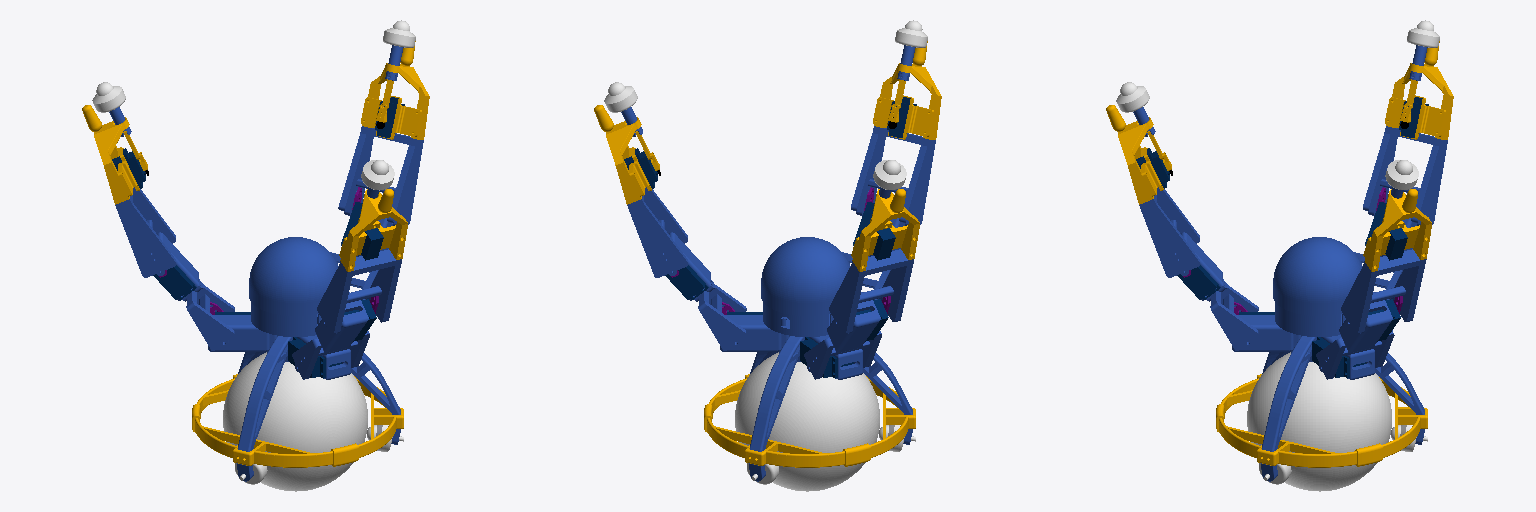
--- Render facts (derived) ---
3 views of the same robot in one strip: view 1: azimuth 30°, elevation 25°; view 2: azimuth 150°, elevation 25°; view 3: azimuth 270°, elevation 25° (orthographic).
Robot: skootr — 72 links, 71 joints (9 revolute, 6 continuous, 56 fixed); root link ball_root; default pose: all joints at 0.
Links seen in each view (by area): view 1: hemisphere_top, lid, leg2_link2_p1, leg3_link2_p1, leg1_link2_p1, third_ring, first_triconstraint, hemisphere_bottom, leg2_link2_p2, leg3_link1, third_servo_mount, electronics_platform (+13 smaller); view 2: hemisphere_top, lid, leg3_link2_p1, leg1_link2_p1, leg2_link2_p1, second_ring, third_triconstraint, hemisphere_bottom, leg3_link2_p2, leg1_link1, first_servo_mount, electronics_platform (+13 smaller); view 3: hemisphere_top, lid, leg1_link2_p1, leg2_link2_p1, leg3_link2_p1, first_ring, second_triconstraint, hemisphere_bottom, leg1_link2_p2, leg2_link1, second_servo_mount, electronics_platform (+13 smaller).
Boxes of the visible links, x1=… form: hemisphere_top: x1=223, y1=352, x2=367, y2=449; lid: x1=249, y1=237, x2=338, y2=315; leg2_link2_p1: x1=317, y1=249, x2=401, y2=333; leg3_link2_p1: x1=115, y1=187, x2=175, y2=277; leg1_link2_p1: x1=338, y1=126, x2=423, y2=225; third_ring: x1=195, y1=418, x2=332, y2=467; first_triconstraint: x1=237, y1=336, x2=292, y2=481; hemisphere_bottom: x1=223, y1=423, x2=367, y2=491; leg2_link2_p2: x1=340, y1=189, x2=407, y2=271; leg3_link1: x1=186, y1=284, x2=234, y2=350; third_servo_mount: x1=208, y1=315, x2=276, y2=351; electronics_platform: x1=251, y1=303, x2=321, y2=336; hemisphere_top: x1=735, y1=352, x2=879, y2=449; lid: x1=761, y1=237, x2=850, y2=315; leg3_link2_p1: x1=829, y1=249, x2=913, y2=333; leg1_link2_p1: x1=627, y1=187, x2=687, y2=277; leg2_link2_p1: x1=851, y1=126, x2=935, y2=225; second_ring: x1=707, y1=418, x2=844, y2=467; third_triconstraint: x1=749, y1=336, x2=804, y2=481; hemisphere_bottom: x1=735, y1=423, x2=879, y2=491; leg3_link2_p2: x1=852, y1=189, x2=919, y2=271; leg1_link1: x1=698, y1=285, x2=746, y2=350; first_servo_mount: x1=720, y1=315, x2=788, y2=351; electronics_platform: x1=763, y1=303, x2=833, y2=336; hemisphere_top: x1=1247, y1=352, x2=1391, y2=449; lid: x1=1273, y1=237, x2=1362, y2=315; leg1_link2_p1: x1=1341, y1=249, x2=1426, y2=333; leg2_link2_p1: x1=1139, y1=187, x2=1199, y2=277; leg3_link2_p1: x1=1363, y1=126, x2=1447, y2=225; first_ring: x1=1219, y1=418, x2=1356, y2=467; second_triconstraint: x1=1261, y1=336, x2=1316, y2=481; hemisphere_bottom: x1=1247, y1=422, x2=1391, y2=491; leg1_link2_p2: x1=1365, y1=189, x2=1431, y2=271; leg2_link1: x1=1210, y1=284, x2=1258, y2=350; second_servo_mount: x1=1232, y1=315, x2=1300, y2=351; electronics_platform: x1=1275, y1=303, x2=1345, y2=336.
Size in the robot's own frame: 0.511 by 0.4789 by 0.6024 metres.
71 mesh visuals loaded from 24 distinct referenced files (24 binary STL).

URDF robot description (skootr):
<?xml version="1.0" ?>
<!-- =================================================================================== -->
<!-- |    This document was autogenerated by xacro from ./src/skootr_description/urdf/skootr.xacro | -->
<!-- |    EDITING THIS FILE BY HAND IS NOT RECOMMENDED                                 | -->
<!-- =================================================================================== -->
<robot name="skootr">
  <!-- Declare colors -->
  <material name="skootr_blue">
    <color rgba="0.231 0.380 0.706 1.0"/>
  </material>
  <material name="skootr_yellow">
    <color rgba="0.980 0.714 0.004 1.0"/>
  </material>
  <material name="skootr_silver">
    <color rgba="0.9176 0.9176 0.9176 1.0"/>
  </material>
  <material name="servo_blue">
    <color rgba="0.043 0.216 0.404 1.0"/>
  </material>
  <material name="horn_purple">
    <color rgba="0.490 0.086 0.557 1.0"/>
  </material>
  <link name="ball_root">
    <origin rpy="0.0 0.0 0.0" xyz="0.0 0.0 0.0"/>
  </link>
  <link name="ball_connector">
    <visual>
      <geometry>
        <mesh filename="package:///meshes/frame/hemisphere_connector.stl" scale="0.001 0.001 0.001"/>
      </geometry>
    </visual>
    <collision>
      <geometry>
        <mesh filename="package:///meshes/frame/hemisphere_connector.stl" scale="0.001 0.001 0.001"/>
      </geometry>
    </collision>
  </link>
  <!-- joining ball_connector to dummy link -->
  <joint name="root_to_connector" type="fixed">
    <origin rpy="1.5707963267948966 0 0" xyz="0.0 0.0 0.0195"/>
    <parent link="ball_root"/>
    <child link="ball_connector"/>
  </joint>
  <!-- top hemisphere -->
  <link name="hemisphere_top">
    <visual>
      <geometry>
        <mesh filename="package:///meshes/frame/hemisphere.stl" scale="0.001 0.001 0.001"/>
      </geometry>
      <material name="skootr_silver"/>
    </visual>
    <collision>
      <geometry>
        <mesh filename="package:///meshes/frame/hemisphere.stl" scale="0.001 0.001 0.001"/>
      </geometry>
    </collision>
  </link>
  <link name="hemisphere_bottom">
    <visual>
      <geometry>
        <mesh filename="package:///meshes/frame/hemisphere.stl" scale="0.001 0.001 0.001"/>
      </geometry>
      <material name="skootr_silver"/>
    </visual>
    <collision>
      <geometry>
        <mesh filename="package:///meshes/frame/hemisphere.stl" scale="0.001 0.001 0.001"/>
      </geometry>
    </collision>
  </link>
  <joint name="connector_to_top" type="fixed">
    <parent link="ball_connector"/>
    <child link="hemisphere_top"/>
    <origin rpy="0 0 0" xyz="0 -0.0195 0"/>
  </joint>
  <joint name="connector_to_bottom" type="fixed">
    <parent link="ball_connector"/>
    <child link="hemisphere_bottom"/>
    <origin rpy="3.14159265 0 0" xyz="0 -0.0195 0"/>
  </joint>
  <!-- ring constraint -->
  <link name="first_ring" type="fixed">
    <visual>
      <geometry>
        <mesh filename="package:///meshes/frame/ringconstraint.stl" scale="0.001 0.001 0.001"/>
      </geometry>
      <material name="skootr_yellow"/>
    </visual>
    <collision>
      <geometry>
        <mesh filename="package:///meshes/frame/ringconstraint.stl" scale="0.001 0.001 0.001"/>
      </geometry>
    </collision>
  </link>
  <link name="first_constraint_connector" type="fixed">
    <visual>
      <geometry>
        <mesh filename="package:///meshes/frame/ringconstraint_connector.stl" scale="0.001 0.001 0.001"/>
      </geometry>
      <material name="skootr_yellow"/>
    </visual>
    <collision>
      <geometry>
        <mesh filename="package:///meshes/frame/ringconstraint_connector.stl" scale="0.001 0.001 0.001"/>
      </geometry>
    </collision>
  </link>
  <link name="first_triconstraint" type="fixed">
    <visual>
      <geometry>
        <mesh filename="package:///meshes/frame/triconstraint.stl" scale="0.001 0.001 0.001"/>
      </geometry>
      <material name="skootr_blue"/>
    </visual>
    <collision>
      <geometry>
        <mesh filename="package:///meshes/frame/triconstraint.stl" scale="0.001 0.001 0.001"/>
      </geometry>
    </collision>
  </link>
  <link name="second_ring" type="fixed">
    <visual>
      <geometry>
        <mesh filename="package:///meshes/frame/ringconstraint.stl" scale="0.001 0.001 0.001"/>
      </geometry>
      <material name="skootr_yellow"/>
    </visual>
    <collision>
      <geometry>
        <mesh filename="package:///meshes/frame/ringconstraint.stl" scale="0.001 0.001 0.001"/>
      </geometry>
    </collision>
  </link>
  <link name="second_constraint_connector" type="fixed">
    <visual>
      <geometry>
        <mesh filename="package:///meshes/frame/ringconstraint_connector.stl" scale="0.001 0.001 0.001"/>
      </geometry>
      <material name="skootr_yellow"/>
    </visual>
    <collision>
      <geometry>
        <mesh filename="package:///meshes/frame/ringconstraint_connector.stl" scale="0.001 0.001 0.001"/>
      </geometry>
    </collision>
  </link>
  <link name="second_triconstraint" type="fixed">
    <visual>
      <geometry>
        <mesh filename="package:///meshes/frame/triconstraint.stl" scale="0.001 0.001 0.001"/>
      </geometry>
      <material name="skootr_blue"/>
    </visual>
    <collision>
      <geometry>
        <mesh filename="package:///meshes/frame/triconstraint.stl" scale="0.001 0.001 0.001"/>
      </geometry>
    </collision>
  </link>
  <link name="third_ring" type="fixed">
    <visual>
      <geometry>
        <mesh filename="package:///meshes/frame/ringconstraint.stl" scale="0.001 0.001 0.001"/>
      </geometry>
      <material name="skootr_yellow"/>
    </visual>
    <collision>
      <geometry>
        <mesh filename="package:///meshes/frame/ringconstraint.stl" scale="0.001 0.001 0.001"/>
      </geometry>
    </collision>
  </link>
  <link name="third_constraint_connector" type="fixed">
    <visual>
      <geometry>
        <mesh filename="package:///meshes/frame/ringconstraint_connector.stl" scale="0.001 0.001 0.001"/>
      </geometry>
      <material name="skootr_yellow"/>
    </visual>
    <collision>
      <geometry>
        <mesh filename="package:///meshes/frame/ringconstraint_connector.stl" scale="0.001 0.001 0.001"/>
      </geometry>
    </collision>
  </link>
  <link name="third_triconstraint" type="fixed">
    <visual>
      <geometry>
        <mesh filename="package:///meshes/frame/triconstraint.stl" scale="0.001 0.001 0.001"/>
      </geometry>
      <material name="skootr_blue"/>
    </visual>
    <collision>
      <geometry>
        <mesh filename="package:///meshes/frame/triconstraint.stl" scale="0.001 0.001 0.001"/>
      </geometry>
    </collision>
  </link>
  <link name="triconstraint_hub" type="fixed">
    <visual>
      <geometry>
        <mesh filename="package:///meshes/frame/triconstraint_hub.stl" scale="0.001 0.001 0.001"/>
      </geometry>
      <material name="skootr_blue"/>
    </visual>
    <collision>
      <geometry>
        <mesh filename="package:///meshes/frame/triconstraint_hub.stl" scale="0.001 0.001 0.001"/>
      </geometry>
    </collision>
  </link>
  <joint name="first_ring_to_ball" type="fixed">
    <origin rpy="0.0 0.0 0.0" xyz="0.0 0.0 -0.00975"/>
    <parent link="ball_root"/>
    <child link="first_ring"/>
  </joint>
  <joint name="first_ring_to_connector" type="fixed">
    <origin rpy="0.0 0.0 0.0" xyz="0.0 0.0 -0.00975"/>
    <parent link="ball_root"/>
    <child link="first_constraint_connector"/>
  </joint>
  <joint name="first_triconstraint_to_connector" type="fixed">
    <origin rpy="0.0 0.0 0.5235987755982988" xyz="0.0 0.0 0.00975"/>
    <parent link="first_ring"/>
    <child link="first_triconstraint"/>
  </joint>
  <joint name="second_ring_to_ball" type="fixed">
    <origin rpy="0.0 0.0 2.0943951023931953" xyz="0.0 0.0 -0.00975"/>
    <parent link="ball_root"/>
    <child link="second_ring"/>
  </joint>
  <joint name="second_ring_to_connector" type="fixed">
    <origin rpy="0.0 0.0 2.0943951023931953" xyz="0.0 0.0 -0.00975"/>
    <parent link="ball_root"/>
    <child link="second_constraint_connector"/>
  </joint>
  <joint name="second_triconstraint_to_connector" type="fixed">
    <origin rpy="0.0 0.0 0.5235987755982988" xyz="0.0 0.0 0.00975"/>
    <parent link="second_ring"/>
    <child link="second_triconstraint"/>
  </joint>
  <joint name="third_ring_to_ball" type="fixed">
    <origin rpy="0.0 0.0 4.1887902047863905" xyz="0.0 0.0 -0.00975"/>
    <parent link="ball_root"/>
    <child link="third_ring"/>
  </joint>
  <joint name="third_ring_to_connector" type="fixed">
    <origin rpy="0.0 0.0 4.1887902047863905" xyz="0.0 0.0 -0.00975"/>
    <parent link="ball_root"/>
    <child link="third_constraint_connector"/>
  </joint>
  <joint name="third_triconstraint_to_connector" type="fixed">
    <origin rpy="0.0 0.0 0.5235987755982988" xyz="0.0 0.0 0.00975"/>
    <parent link="third_ring"/>
    <child link="third_triconstraint"/>
  </joint>
  <joint name="triconstraints_to_hub" type="fixed">
    <origin rpy="0.0 0.0 0.5235987755982988" xyz="0.0 0.0 0.0"/>
    <parent link="ball_root"/>
    <child link="triconstraint_hub"/>
  </joint>
  <link name="metal_bearing" type="fixed">
    <visual>
      <geometry>
        <mesh filename="package:///meshes/non_printed/metal_bearing.stl" scale="0.001 0.001 0.001"/>
      </geometry>
      <material name="skootr_silver"/>
    </visual>
    <collision>
      <geometry>
        <mesh filename="package:///meshes/non_printed/metal_bearing.stl" scale="0.001 0.001 0.001"/>
      </geometry>
    </collision>
  </link>
  <link name="first_metal_bearing" type="fixed">
    <visual>
      <geometry>
        <mesh filename="package:///meshes/non_printed/metal_bearing.stl" scale="0.001 0.001 0.001"/>
      </geometry>
      <material name="skootr_silver"/>
    </visual>
    <collision>
      <geometry>
        <mesh filename="package:///meshes/non_printed/metal_bearing.stl" scale="0.001 0.001 0.001"/>
      </geometry>
    </collision>
  </link>
  <link name="second_metal_bearing" type="fixed">
    <visual>
      <geometry>
        <mesh filename="package:///meshes/non_printed/metal_bearing.stl" scale="0.001 0.001 0.001"/>
      </geometry>
      <material name="skootr_silver"/>
    </visual>
    <collision>
      <geometry>
        <mesh filename="package:///meshes/non_printed/metal_bearing.stl" scale="0.001 0.001 0.001"/>
      </geometry>
    </collision>
  </link>
  <link name="third_metal_bearing" type="fixed">
    <visual>
      <geometry>
        <mesh filename="package:///meshes/non_printed/metal_bearing.stl" scale="0.001 0.001 0.001"/>
      </geometry>
      <material name="skootr_silver"/>
    </visual>
    <collision>
      <geometry>
        <mesh filename="package:///meshes/non_printed/metal_bearing.stl" scale="0.001 0.001 0.001"/>
      </geometry>
    </collision>
  </link>
  <link name="servo_hub_bottom" type="fixed">
    <visual>
      <geometry>
        <mesh filename="package:///meshes/frame/servo_hub_bottom.stl" scale="0.001 0.001 0.001"/>
      </geometry>
      <material name="skootr_blue"/>
    </visual>
    <collision>
      <geometry>
        <mesh filename="package:///meshes/frame/servo_hub_bottom.stl" scale="0.001 0.001 0.001"/>
      </geometry>
    </collision>
  </link>
  <joint name="hub_to_bearing" type="fixed">
    <origin rpy="-1.5707963267948966 0.0 0.0" xyz="0.0 0.0 0.138835"/>
    <parent link="triconstraint_hub"/>
    <child link="metal_bearing"/>
  </joint>
  <joint name="first_triconstraint_to_bearing" type="fixed">
    <origin rpy="0.20 0.0 -1.5707963267948966" xyz="-0.1322 0.0 -0.0274574"/>
    <parent link="first_triconstraint"/>
    <child link="first_metal_bearing"/>
  </joint>
  <joint name="second_triconstraint_to_bearing" type="fixed">
    <origin rpy="0.20 0.0 -1.5707963267948966" xyz="-0.1322 0.0 -0.0274574"/>
    <parent link="second_triconstraint"/>
    <child link="second_metal_bearing"/>
  </joint>
  <joint name="third_triconstraint_to_bearing" type="fixed">
    <origin rpy="0.20 0.0 -1.5707963267948966" xyz="-0.1322 0.0 -0.0274574"/>
    <parent link="third_triconstraint"/>
    <child link="third_metal_bearing"/>
  </joint>
  <joint name="triconstraint_to_bottomhubs" type="fixed">
    <origin rpy="0.0 0.0 0.0" xyz="0.0 0.0 0.103912"/>
    <parent link="first_triconstraint"/>
    <child link="servo_hub_bottom"/>
  </joint>
  <!-- Servo -->
  <link name="first_servo">
    <visual>
      <geometry>
        <mesh filename="package:///meshes/non_printed/60_kg_servo.stl" scale="0.001 0.001 0.001"/>
      </geometry>
      <material name="servo_blue"/>
    </visual>
    <collision>
      <geometry>
        <mesh filename="package:///meshes/non_printed/60_kg_servo.stl" scale="0.001 0.001 0.001"/>
      </geometry>
    </collision>
  </link>
  <link name="second_servo">
    <visual>
      <geometry>
        <mesh filename="package:///meshes/non_printed/60_kg_servo.stl" scale="0.001 0.001 0.001"/>
      </geometry>
      <material name="servo_blue"/>
    </visual>
    <collision>
      <geometry>
        <mesh filename="package:///meshes/non_printed/60_kg_servo.stl" scale="0.001 0.001 0.001"/>
      </geometry>
    </collision>
  </link>
  <link name="third_servo">
    <visual>
      <geometry>
        <mesh filename="package:///meshes/non_printed/60_kg_servo.stl" scale="0.001 0.001 0.001"/>
      </geometry>
      <material name="servo_blue"/>
    </visual>
    <collision>
      <geometry>
        <mesh filename="package:///meshes/non_printed/60_kg_servo.stl" scale="0.001 0.001 0.001"/>
      </geometry>
    </collision>
  </link>
  <link name="first_servo_mount">
    <visual>
      <geometry>
        <mesh filename="package:///meshes/frame/servo_mount_60kg.stl" scale="0.001 0.001 0.001"/>
      </geometry>
      <material name="skootr_blue"/>
    </visual>
    <collision>
      <geometry>
        <mesh filename="package:///meshes/frame/servo_mount_60kg.stl" scale="0.001 0.001 0.001"/>
      </geometry>
    </collision>
  </link>
  <link name="second_servo_mount">
    <visual>
      <geometry>
        <mesh filename="package:///meshes/frame/servo_mount_60kg.stl" scale="0.001 0.001 0.001"/>
      </geometry>
      <material name="skootr_blue"/>
    </visual>
    <collision>
      <geometry>
        <mesh filename="package:///meshes/frame/servo_mount_60kg.stl" scale="0.001 0.001 0.001"/>
      </geometry>
    </collision>
  </link>
  <link name="third_servo_mount">
    <visual>
      <geometry>
        <mesh filename="package:///meshes/frame/servo_mount_60kg.stl" scale="0.001 0.001 0.001"/>
      </geometry>
      <material name="skootr_blue"/>
    </visual>
    <collision>
      <geometry>
        <mesh filename="package:///meshes/frame/servo_mount_60kg.stl" scale="0.001 0.001 0.001"/>
      </geometry>
    </collision>
  </link>
  <joint name="first_servo_to_slot" type="fixed">
    <origin rpy="0.0 0.0 1.5707963267948966" xyz="0.0 0.0 0.0278"/>
    <parent link="first_servo_mount"/>
    <child link="first_servo"/>
  </joint>
  <joint name="second_servo_to_slot" type="fixed">
    <origin rpy="0.0 0.0 1.5707963267948966" xyz="0.0 0.0 0.0278"/>
    <parent link="second_servo_mount"/>
    <child link="second_servo"/>
  </joint>
  <joint name="third_servo_to_slot" type="fixed">
    <origin rpy="0.0 0.0 1.5707963267948966" xyz="0.0 0.0 0.0278"/>
    <parent link="third_servo_mount"/>
    <child link="third_servo"/>
  </joint>
  <joint name="first_servo_to_hub" type="fixed">
    <origin rpy="0.0 1.5707963267948966 -1.5707963267948966" xyz="0.078 0.014 0.026"/>
    <parent link="servo_hub_bottom"/>
    <child link="first_servo_mount"/>
  </joint>
  <joint name="second_servo_to_hub" type="fixed">
    <origin rpy="0.0 1.5707963267948966 2.617993877991494" xyz="-0.027 -0.0745 0.026"/>
    <parent link="servo_hub_bottom"/>
    <child link="second_servo_mount"/>
  </joint>
  <joint name="third_servo_to_hub" type="fixed">
    <origin rpy="0.0 1.5707963267948966 0.5235987755982989" xyz="-0.051 0.0605 0.026"/>
    <parent link="servo_hub_bottom"/>
    <child link="third_servo_mount"/>
  </joint>
  <!-- connecting with legs, adding horn -->
  <link name="first_servo_horn">
    <visual>
      <geometry>
        <mesh filename="package:///meshes/non_printed/18T_servo_horn.stl" scale="0.001 0.001 0.001"/>
      </geometry>
      <material name="horn_purple"/>
    </visual>
    <collision>
      <geometry>
        <mesh filename="package:///meshes/non_printed/18T_servo_horn.stl" scale="0.001 0.001 0.001"/>
      </geometry>
    </collision>
  </link>
  <link name="second_servo_horn">
    <visual>
      <geometry>
        <mesh filename="package:///meshes/non_printed/18T_servo_horn.stl" scale="0.001 0.001 0.001"/>
      </geometry>
      <material name="horn_purple"/>
    </visual>
    <collision>
      <geometry>
        <mesh filename="package:///meshes/non_printed/18T_servo_horn.stl" scale="0.001 0.001 0.001"/>
      </geometry>
    </collision>
  </link>
  <link name="third_servo_horn">
    <visual>
      <geometry>
        <mesh filename="package:///meshes/non_printed/18T_servo_horn.stl" scale="0.001 0.001 0.001"/>
      </geometry>
      <material name="horn_purple"/>
    </visual>
    <collision>
      <geometry>
        <mesh filename="package:///meshes/non_printed/18T_servo_horn.stl" scale="0.001 0.001 0.001"/>
      </geometry>
    </collision>
  </link>
  <!-- <joint name="first_servo_to_horn" type="fixed">
      <origin xyz="0.019 -0.0 0.0245" rpy="0 0 ${pi/2 + 0.872664626}"/>
      <parent link="first_servo"/>
      <child link="first_servo_horn"/>
    </joint> -->
  <joint name="first_servo_to_horn" type="revolute">
    <origin rpy="0 0 2.4434609527948967" xyz="0.019 -0.0 0.0245"/>
    <axis xyz="0 0 -1"/>
    <parent link="first_servo"/>
    <child link="first_servo_horn"/>
    <limit effort="1" lower="-0" upper="1.187" velocity="1"/>
  </joint>
  <joint name="second_servo_to_horn" type="revolute">
    <origin rpy="0 0 2.4434609527948967" xyz="0.019 -0.0 0.0245"/>
    <axis xyz="0 0 -1"/>
    <parent link="second_servo"/>
    <child link="second_servo_horn"/>
    <limit effort="1" lower="-0" upper="1.187" velocity="1"/>
  </joint>
  <joint name="third_servo_to_horn" type="revolute">
    <origin rpy="0 0 2.4434609527948967" xyz="0.019 -0.0 0.0245"/>
    <axis xyz="0 0 -1"/>
    <parent link="third_servo"/>
    <child link="third_servo_horn"/>
    <limit effort="1" lower="-0" upper="1.187" velocity="1"/>
  </joint>
  <!-- electronics -->
  <link name="electronics_platform">
    <visual>
      <geometry>
        <mesh filename="package:///meshes/frame/electronics_platform.stl" scale="0.001 0.001 0.001"/>
      </geometry>
      <material name="skootr_blue"/>
    </visual>
    <collision>
      <geometry>
        <mesh filename="package:///meshes/frame/electronics_platform.stl" scale="0.001 0.001 0.001"/>
      </geometry>
    </collision>
  </link>
  <link name="lid">
    <visual>
      <geometry>
        <mesh filename="package:///meshes/frame/lid.stl" scale="0.001 0.001 0.001"/>
      </geometry>
      <material name="skootr_blue"/>
    </visual>
    <collision>
      <geometry>
        <mesh filename="package:///meshes/frame/lid.stl" scale="0.001 0.001 0.001"/>
      </geometry>
    </collision>
  </link>
  <joint name="triconstraint_hub_to_electronics_platform" type="fixed">
    <origin rpy="0.0 3.141592653589793 0.5235987755982988" xyz="0.0 -0.0 0.156"/>
    <parent link="triconstraint_hub"/>
    <child link="electronics_platform"/>
  </joint>
  <joint name="electronics_platform_to_lid" type="fixed">
    <origin rpy="0.0 0.0 0.0" xyz="0.0 -0.0 -0.05"/>
    <parent link="electronics_platform"/>
    <child link="lid"/>
  </joint>
  <!-- link2 -->
  <link name="leg1_link2_p1">
    <visual>
      <geometry>
        <mesh filename="package:///meshes/legs/link2p1.stl" scale="0.001 0.001 0.001"/>
      </geometry>
      <material name="leg1_link2_p1_blue">
        <color rgba="0.231 0.380 0.706 1.0"/>
      </material>
    </visual>
    <collision>
      <geometry>
        <mesh filename="package:///meshes/legs/link2p1.stl" scale="0.001 0.001 0.001"/>
      </geometry>
    </collision>
  </link>
  <link name="leg1_link2_p2">
    <visual>
      <geometry>
        <mesh filename="package:///meshes/legs/link2p2.stl" scale="0.001 0.001 0.001"/>
      </geometry>
      <material name="leg1_link2_p2_yellow">
        <color rgba="0.980 0.714 0.004 1.0"/>
      </material>
    </visual>
    <collision>
      <geometry>
        <mesh filename="package:///meshes/legs/link2p2.stl" scale="0.001 0.001 0.001"/>
      </geometry>
    </collision>
  </link>
  <link name="leg1_link2_p3">
    <visual>
      <geometry>
        <mesh filename="package:///meshes/legs/link2p3.stl" scale="0.001 0.001 0.001"/>
      </geometry>
      <material name="leg1_link2_p3_yellow">
        <color rgba="0.980 0.714 0.004 1.0"/>
      </material>
    </visual>
    <collision>
      <geometry>
        <mesh filename="package:///meshes/legs/link2p3.stl" scale="0.001 0.001 0.001"/>
      </geometry>
    </collision>
  </link>
  <joint name="leg1_link2_p1_to_p2" type="fixed">
    <origin rpy="0.0 0.0 0.0" xyz="0.0 0.0 0.0"/>
    <parent link="leg1_link2_p1"/>
    <child link="leg1_link2_p2"/>
  </joint>
  <joint name="leg1_link2_p2_to_p3" type="fixed">
    <origin rpy="0.0 1.5707963267948966 0.0" xyz="-0.220 0.0 0.006"/>
    <parent link="leg1_link2_p2"/>
    <child link="leg1_link2_p3"/>
  </joint>
  <link name="leg1_pusher_servo_mount">
    <visual>
      <geometry>
        <mesh filename="package:///meshes/legs/pusher_servo_mount.stl" scale="0.001 0.001 0.001"/>
      </geometry>
      <material name="leg1_pusher_servo_mount_yellow">
        <color rgba="0.980 0.714 0.004 1.0"/>
      </material>
    </visual>
    <collision>
      <geometry>
        <mesh filename="package:///meshes/legs/pusher_servo_mount.stl" scale="0.001 0.001 0.001"/>
      </geometry>
    </collision>
  </link>
  <joint name="leg1_pusher_servo_mount_to_link2" type="fixed">
    <origin rpy="0.0 0.0 1.5707963267948966" xyz="-0.147 0.0 0.012"/>
    <parent link="leg1_link2_p2"/>
    <child link="leg1_pusher_servo_mount"/>
  </joint>
  <link name="leg1_pusher_servo">
    <visual>
      <geometry>
        <mesh filename="package:///meshes/non_printed/pusher_servo.stl" scale="0.001 0.001 0.001"/>
      </geometry>
      <material name="leg1_pusher_servo_blue">
        <color rgba="0.043 0.216 0.404 1.0"/>
      </material>
    </visual>
    <collision>
      <geometry>
        <mesh filename="package:///meshes/non_printed/pusher_servo.stl" scale="0.001 0.001 0.001"/>
      </geometry>
    </collision>
  </link>
  <joint name="leg1_pusher_servo_to_mount" type="fixed">
    <origin rpy="0.0 0.0 -1.5707963267948966" xyz="0.01 -0.0 0.0096"/>
    <parent link="leg1_pusher_servo_mount"/>
    <child link="leg1_pusher_servo"/>
  </joint>
  <!-- link1 -->
  <link name="servo_leg1_link1">
    <visual>
      <geometry>
        <mesh filename="package:///meshes/non_printed/60_kg_servo.stl" scale="0.001 0.001 0.001"/>
      </geometry>
      <material name="servo_leg1_link1_blue">
        <color rgba="0.043 0.216 0.404 1.0"/>
      </material>
    </visual>
    <collision>
      <geometry>
        <mesh filename="package:///meshes/non_printed/60_kg_servo.stl" scale="0.001 0.001 0.001"/>
      </geometry>
    </collision>
  </link>
  <link name="servo_mount_leg1_link1">
    <visual>
      <geometry>
        <mesh filename="package:///meshes/legs/servo_mount_slotted_60kg.stl" scale="0.001 0.001 0.001"/>
      </geometry>
      <material name="servo_mount_leg1_link1_blue">
        <color rgba="0.231 0.380 0.706 1.0"/>
      </material>
    </visual>
    <collision>
      <geometry>
        <mesh filename="package:///meshes/legs/servo_mount_slotted_60kg.stl" scale="0.001 0.001 0.001"/>
      </geometry>
    </collision>
  </link>
  <joint name="leg1_link1_servo_to_mount" type="fixed">
    <origin rpy="0.0 0.0 1.5707963267948966" xyz="0.0 0.0 0.0278"/>
    <parent link="servo_mount_leg1_link1"/>
    <child link="servo_leg1_link1"/>
  </joint>
  <link name="leg1_link1">
    <visual>
      <geometry>
        <mesh filename="package:///meshes/legs/link1.stl" scale="0.001 0.001 0.001"/>
      </geometry>
      <material name="leg1_link1_blue">
        <color rgba="0.231 0.380 0.706 1.0"/>
      </material>
    </visual>
    <collision>
      <geometry>
        <mesh filename="package:///meshes/legs/link1.stl" scale="0.001 0.001 0.001"/>
      </geometry>
    </collision>
  </link>
  <joint name="leg1_link1_to_servo" type="fixed">
    <origin rpy="0.0 1.5707963267948966 1.5707963267948966" xyz="-0.123 -0.031 0.0065"/>
    <parent link="leg1_link1"/>
    <child link="servo_mount_leg1_link1"/>
  </joint>
  <!-- horn -->
  <link name="leg1_horn_sleeve">
    <visual>
      <geometry>
        <mesh filename="package:///meshes/legs/horn_sleeve.stl" scale="0.001 0.001 0.001"/>
      </geometry>
      <material name="leg1_horn_sleeve_yellow">
        <color rgba="0.980 0.714 0.004 1.0"/>
      </material>
    </visual>
    <collision>
      <geometry>
        <mesh filename="package:///meshes/legs/horn_sleeve.stl" scale="0.001 0.001 0.001"/>
      </geometry>
    </collision>
  </link>
  <link name="leg1_actuator_arm">
    <visual>
      <geometry>
        <mesh filename="package:///meshes/legs/actuator_arm.stl" scale="0.001 0.001 0.001"/>
      </geometry>
      <material name="leg1_actuator_arm_yellow">
        <color rgba="0.980 0.714 0.004 1.0"/>
      </material>
    </visual>
    <collision>
      <geometry>
        <mesh filename="package:///meshes/legs/actuator_arm.stl" scale="0.001 0.001 0.001"/>
      </geometry>
    </collision>
  </link>
  <link name="leg1_pusher_servo_horn">
    <visual>
      <geometry>
        <mesh filename="package:///meshes/non_printed/pusher_servo_horn.stl" scale="0.001 0.001 0.001"/>
      </geometry>
      <material name="leg1_pusher_servo_horn_black">
        <color rgba="0.0 0.0 0.0 1.0"/>
      </material>
    </visual>
    <collision>
      <geometry>
        <mesh filename="package:///meshes/non_printed/pusher_servo_horn.stl" scale="0.001 0.001 0.001"/>
      </geometry>
    </collision>
  </link>
  <link name="leg1_sliding_cylinder">
    <visual>
      <geometry>
        <mesh filename="package:///meshes/legs/sliding_cylinder.stl" scale="0.001 0.001 0.001"/>
      </geometry>
      <material name="leg1_sliding_cylinder_blue">
        <color rgba="0.231 0.380 0.706 1.0"/>
      </material>
    </visual>
    <collision>
      <geometry>
        <mesh filename="package:///meshes/legs/sliding_cylinder.stl" scale="0.001 0.001 0.001"/>
      </geometry>
    </collision>
  </link>
  <link name="leg1_wheels">
    <visual>
      <geometry>
        <mesh filename="package:///meshes/non_printed/metal_bearing.stl" scale="0.001 0.001 0.001"/>
      </geometry>
      <material name="leg1_wheels_silver">
        <color rgba="0.9176 0.9176 0.9176 1.0"/>
      </material>
    </visual>
    <collision>
      <geometry>
        <mesh filename="package:///meshes/non_printed/metal_bearing.stl" scale="0.001 0.001 0.001"/>
      </geometry>
    </collision>
  </link>
  <joint name="leg1_servo_to_horn" type="revolute">
    <origin rpy="0.0 0.0 1.5707963267948966" xyz="0.0075 -0.01 0.02"/>
    <parent link="leg1_pusher_servo"/>
    <child link="leg1_pusher_servo_horn"/>
    <axis xyz="0.0 0.0 1.0"/>
    <limit effort="50.0" lower="-1.5707963267948966" upper="1.5707963267948966" velocity="1.0"/>
  </joint>
  <joint name="leg1_servo_horn_to_sleeve" type="fixed">
    <origin rpy="3.141592653589793 0.0 1.5707963267948966" xyz="-0.0 0.0 0.005"/>
    <parent link="leg1_pusher_servo_horn"/>
    <child link="leg1_horn_sleeve"/>
  </joint>
  <joint name="leg1_sleeve_to_arm" type="continuous">
    <origin rpy="-1.5707963267948966 0.0 1.5707963267948966" xyz="0.0212344 -0.0 0.0039878"/>
    <parent link="leg1_horn_sleeve"/>
    <child link="leg1_actuator_arm"/>
    <axis xyz="0.0 1.0 0.0"/>
  </joint>
  <joint name="leg1_cylinder_to_arm" type="continuous">
    <origin rpy="1.5707963267948966 0.0 0.0" xyz="-0.0 -0.0027 -0.046"/>
    <parent link="leg1_actuator_arm"/>
    <child link="leg1_sliding_cylinder"/>
    <axis xyz="0.0 0.0 1.0"/>
  </joint>
  <joint name="leg1_cylinder_to_wheels" type="fixed">
    <origin rpy="0 0.0 3.141592653589793" xyz="-0.0 -0.0405 -0.0"/>
    <parent link="leg1_sliding_cylinder"/>
    <child link="leg1_wheels"/>
  </joint>
  <!-- joining link1 and link2 -->
  <link name="leg1_servo_horn">
    <visual>
      <geometry>
        <mesh filename="package:///meshes/non_printed/18T_servo_horn.stl" scale="0.001 0.001 0.001"/>
      </geometry>
      <material name="leg1_servo_horn_purple">
        <color rgba="0.490 0.086 0.557 1.0"/>
      </material>
    </visual>
    <collision>
      <geometry>
        <mesh filename="package:///meshes/non_printed/18T_servo_horn.stl" scale="0.001 0.001 0.001"/>
      </geometry>
    </collision>
  </link>
  <joint name="leg1_link1_to_joint" type="revolute">
    <origin rpy="0 0 1.2915436467948966" xyz="0.019 -0.0 0.0245"/>
    <parent link="servo_leg1_link1"/>
    <child link="leg1_servo_horn"/>
    <axis xyz="0 0 1"/>
    <limit effort="1" lower="-2.356" upper="2.356" velocity="1"/>
  </joint>
  <joint name="leg1_joint_to_link2" type="fixed">
    <origin rpy="1.5707963267948966 3.141592653589793 -1.5707963267948966" xyz="0.005 0.005 -0.028"/>
    <parent link="leg1_servo_horn"/>
    <child link="leg1_link2_p1"/>
  </joint>
  <!-- joining to the base -->
  <joint name="leg1_link1_to_frame" type="fixed">
    <origin rpy="1.5707963267948966 3.141592653589793 -1.5707963267948966" xyz="0.005 0.005 -0.028"/>
    <parent link="first_servo_horn"/>
    <child link="leg1_link1"/>
  </joint>
  <!-- link2 -->
  <link name="leg2_link2_p1">
    <visual>
      <geometry>
        <mesh filename="package:///meshes/legs/link2p1.stl" scale="0.001 0.001 0.001"/>
      </geometry>
      <material name="leg2_link2_p1_blue">
        <color rgba="0.231 0.380 0.706 1.0"/>
      </material>
    </visual>
    <collision>
      <geometry>
        <mesh filename="package:///meshes/legs/link2p1.stl" scale="0.001 0.001 0.001"/>
      </geometry>
    </collision>
  </link>
  <link name="leg2_link2_p2">
    <visual>
      <geometry>
        <mesh filename="package:///meshes/legs/link2p2.stl" scale="0.001 0.001 0.001"/>
      </geometry>
      <material name="leg2_link2_p2_yellow">
        <color rgba="0.980 0.714 0.004 1.0"/>
      </material>
    </visual>
    <collision>
      <geometry>
        <mesh filename="package:///meshes/legs/link2p2.stl" scale="0.001 0.001 0.001"/>
      </geometry>
    </collision>
  </link>
  <link name="leg2_link2_p3">
    <visual>
      <geometry>
        <mesh filename="package:///meshes/legs/link2p3.stl" scale="0.001 0.001 0.001"/>
      </geometry>
      <material name="leg2_link2_p3_yellow">
        <color rgba="0.980 0.714 0.004 1.0"/>
      </material>
    </visual>
    <collision>
      <geometry>
        <mesh filename="package:///meshes/legs/link2p3.stl" scale="0.001 0.001 0.001"/>
      </geometry>
    </collision>
  </link>
  <joint name="leg2_link2_p1_to_p2" type="fixed">
    <origin rpy="0.0 0.0 0.0" xyz="0.0 0.0 0.0"/>
    <parent link="leg2_link2_p1"/>
    <child link="leg2_link2_p2"/>
  </joint>
  <joint name="leg2_link2_p2_to_p3" type="fixed">
    <origin rpy="0.0 1.5707963267948966 0.0" xyz="-0.220 0.0 0.006"/>
    <parent link="leg2_link2_p2"/>
    <child link="leg2_link2_p3"/>
  </joint>
  <link name="leg2_pusher_servo_mount">
    <visual>
      <geometry>
        <mesh filename="package:///meshes/legs/pusher_servo_mount.stl" scale="0.001 0.001 0.001"/>
      </geometry>
      <material name="leg2_pusher_servo_mount_yellow">
        <color rgba="0.980 0.714 0.004 1.0"/>
      </material>
    </visual>
    <collision>
      <geometry>
        <mesh filename="package:///meshes/legs/pusher_servo_mount.stl" scale="0.001 0.001 0.001"/>
      </geometry>
    </collision>
  </link>
  <joint name="leg2_pusher_servo_mount_to_link2" type="fixed">
    <origin rpy="0.0 0.0 1.5707963267948966" xyz="-0.147 0.0 0.012"/>
    <parent link="leg2_link2_p2"/>
    <child link="leg2_pusher_servo_mount"/>
  </joint>
  <link name="leg2_pusher_servo">
    <visual>
      <geometry>
        <mesh filename="package:///meshes/non_printed/pusher_servo.stl" scale="0.001 0.001 0.001"/>
      </geometry>
      <material name="leg2_pusher_servo_blue">
        <color rgba="0.043 0.216 0.404 1.0"/>
      </material>
    </visual>
    <collision>
      <geometry>
        <mesh filename="package:///meshes/non_printed/pusher_servo.stl" scale="0.001 0.001 0.001"/>
      </geometry>
    </collision>
  </link>
  <joint name="leg2_pusher_servo_to_mount" type="fixed">
    <origin rpy="0.0 0.0 -1.5707963267948966" xyz="0.01 -0.0 0.0096"/>
    <parent link="leg2_pusher_servo_mount"/>
    <child link="leg2_pusher_servo"/>
  </joint>
  <!-- link1 -->
  <link name="servo_leg2_link1">
    <visual>
      <geometry>
        <mesh filename="package:///meshes/non_printed/60_kg_servo.stl" scale="0.001 0.001 0.001"/>
      </geometry>
      <material name="servo_leg2_link1_blue">
        <color rgba="0.043 0.216 0.404 1.0"/>
      </material>
    </visual>
    <collision>
      <geometry>
        <mesh filename="package:///meshes/non_printed/60_kg_servo.stl" scale="0.001 0.001 0.001"/>
      </geometry>
    </collision>
  </link>
  <link name="servo_mount_leg2_link1">
    <visual>
      <geometry>
        <mesh filename="package:///meshes/legs/servo_mount_slotted_60kg.stl" scale="0.001 0.001 0.001"/>
      </geometry>
      <material name="servo_mount_leg2_link1_blue">
        <color rgba="0.231 0.380 0.706 1.0"/>
      </material>
    </visual>
    <collision>
      <geometry>
        <mesh filename="package:///meshes/legs/servo_mount_slotted_60kg.stl" scale="0.001 0.001 0.001"/>
      </geometry>
    </collision>
  </link>
  <joint name="leg2_link1_servo_to_mount" type="fixed">
    <origin rpy="0.0 0.0 1.5707963267948966" xyz="0.0 0.0 0.0278"/>
    <parent link="servo_mount_leg2_link1"/>
    <child link="servo_leg2_link1"/>
  </joint>
  <link name="leg2_link1">
    <visual>
      <geometry>
        <mesh filename="package:///meshes/legs/link1.stl" scale="0.001 0.001 0.001"/>
      </geometry>
      <material name="leg2_link1_blue">
        <color rgba="0.231 0.380 0.706 1.0"/>
      </material>
    </visual>
    <collision>
      <geometry>
        <mesh filename="package:///meshes/legs/link1.stl" scale="0.001 0.001 0.001"/>
      </geometry>
    </collision>
  </link>
  <joint name="leg2_link1_to_servo" type="fixed">
    <origin rpy="0.0 1.5707963267948966 1.5707963267948966" xyz="-0.123 -0.031 0.0065"/>
    <parent link="leg2_link1"/>
    <child link="servo_mount_leg2_link1"/>
  </joint>
  <!-- horn -->
  <link name="leg2_horn_sleeve">
    <visual>
      <geometry>
        <mesh filename="package:///meshes/legs/horn_sleeve.stl" scale="0.001 0.001 0.001"/>
      </geometry>
      <material name="leg2_horn_sleeve_yellow">
        <color rgba="0.980 0.714 0.004 1.0"/>
      </material>
    </visual>
    <collision>
      <geometry>
        <mesh filename="package:///meshes/legs/horn_sleeve.stl" scale="0.001 0.001 0.001"/>
      </geometry>
    </collision>
  </link>
  <link name="leg2_actuator_arm">
    <visual>
      <geometry>
        <mesh filename="package:///meshes/legs/actuator_arm.stl" scale="0.001 0.001 0.001"/>
      </geometry>
      <material name="leg2_actuator_arm_yellow">
        <color rgba="0.980 0.714 0.004 1.0"/>
      </material>
    </visual>
    <collision>
      <geometry>
        <mesh filename="package:///meshes/legs/actuator_arm.stl" scale="0.001 0.001 0.001"/>
      </geometry>
    </collision>
  </link>
  <link name="leg2_pusher_servo_horn">
    <visual>
      <geometry>
        <mesh filename="package:///meshes/non_printed/pusher_servo_horn.stl" scale="0.001 0.001 0.001"/>
      </geometry>
      <material name="leg2_pusher_servo_horn_black">
        <color rgba="0.0 0.0 0.0 1.0"/>
      </material>
    </visual>
    <collision>
      <geometry>
        <mesh filename="package:///meshes/non_printed/pusher_servo_horn.stl" scale="0.001 0.001 0.001"/>
      </geometry>
    </collision>
  </link>
  <link name="leg2_sliding_cylinder">
    <visual>
      <geometry>
        <mesh filename="package:///meshes/legs/sliding_cylinder.stl" scale="0.001 0.001 0.001"/>
      </geometry>
      <material name="leg2_sliding_cylinder_blue">
        <color rgba="0.231 0.380 0.706 1.0"/>
      </material>
    </visual>
    <collision>
      <geometry>
        <mesh filename="package:///meshes/legs/sliding_cylinder.stl" scale="0.001 0.001 0.001"/>
      </geometry>
    </collision>
  </link>
  <link name="leg2_wheels">
    <visual>
      <geometry>
        <mesh filename="package:///meshes/non_printed/metal_bearing.stl" scale="0.001 0.001 0.001"/>
      </geometry>
      <material name="leg2_wheels_silver">
        <color rgba="0.9176 0.9176 0.9176 1.0"/>
      </material>
    </visual>
    <collision>
      <geometry>
        <mesh filename="package:///meshes/non_printed/metal_bearing.stl" scale="0.001 0.001 0.001"/>
      </geometry>
    </collision>
  </link>
  <joint name="leg2_servo_to_horn" type="revolute">
    <origin rpy="0.0 0.0 1.5707963267948966" xyz="0.0075 -0.01 0.02"/>
    <parent link="leg2_pusher_servo"/>
    <child link="leg2_pusher_servo_horn"/>
    <axis xyz="0.0 0.0 1.0"/>
    <limit effort="50.0" lower="-1.5707963267948966" upper="1.5707963267948966" velocity="1.0"/>
  </joint>
  <joint name="leg2_servo_horn_to_sleeve" type="fixed">
    <origin rpy="3.141592653589793 0.0 1.5707963267948966" xyz="-0.0 0.0 0.005"/>
    <parent link="leg2_pusher_servo_horn"/>
    <child link="leg2_horn_sleeve"/>
  </joint>
  <joint name="leg2_sleeve_to_arm" type="continuous">
    <origin rpy="-1.5707963267948966 0.0 1.5707963267948966" xyz="0.0212344 -0.0 0.0039878"/>
    <parent link="leg2_horn_sleeve"/>
    <child link="leg2_actuator_arm"/>
    <axis xyz="0.0 1.0 0.0"/>
  </joint>
  <joint name="leg2_cylinder_to_arm" type="continuous">
    <origin rpy="1.5707963267948966 0.0 0.0" xyz="-0.0 -0.0027 -0.046"/>
    <parent link="leg2_actuator_arm"/>
    <child link="leg2_sliding_cylinder"/>
    <axis xyz="0.0 0.0 1.0"/>
  </joint>
  <joint name="leg2_cylinder_to_wheels" type="fixed">
    <origin rpy="0 0.0 3.141592653589793" xyz="-0.0 -0.0405 -0.0"/>
    <parent link="leg2_sliding_cylinder"/>
    <child link="leg2_wheels"/>
  </joint>
  <!-- joining link1 and link2 -->
  <link name="leg2_servo_horn">
    <visual>
      <geometry>
        <mesh filename="package:///meshes/non_printed/18T_servo_horn.stl" scale="0.001 0.001 0.001"/>
      </geometry>
      <material name="leg2_servo_horn_purple">
        <color rgba="0.490 0.086 0.557 1.0"/>
      </material>
    </visual>
    <collision>
      <geometry>
        <mesh filename="package:///meshes/non_printed/18T_servo_horn.stl" scale="0.001 0.001 0.001"/>
      </geometry>
    </collision>
  </link>
  <joint name="leg2_link1_to_joint" type="revolute">
    <origin rpy="0 0 1.2915436467948966" xyz="0.019 -0.0 0.0245"/>
    <parent link="servo_leg2_link1"/>
    <child link="leg2_servo_horn"/>
    <axis xyz="0 0 1"/>
    <limit effort="1" lower="-2.356" upper="2.356" velocity="1"/>
  </joint>
  <joint name="leg2_joint_to_link2" type="fixed">
    <origin rpy="1.5707963267948966 3.141592653589793 -1.5707963267948966" xyz="0.005 0.005 -0.028"/>
    <parent link="leg2_servo_horn"/>
    <child link="leg2_link2_p1"/>
  </joint>
  <!-- joining to the base -->
  <joint name="leg2_link1_to_frame" type="fixed">
    <origin rpy="1.5707963267948966 3.141592653589793 -1.5707963267948966" xyz="0.005 0.005 -0.028"/>
    <parent link="second_servo_horn"/>
    <child link="leg2_link1"/>
  </joint>
  <!-- link2 -->
  <link name="leg3_link2_p1">
    <visual>
      <geometry>
        <mesh filename="package:///meshes/legs/link2p1.stl" scale="0.001 0.001 0.001"/>
      </geometry>
      <material name="leg3_link2_p1_blue">
        <color rgba="0.231 0.380 0.706 1.0"/>
      </material>
    </visual>
    <collision>
      <geometry>
        <mesh filename="package:///meshes/legs/link2p1.stl" scale="0.001 0.001 0.001"/>
      </geometry>
    </collision>
  </link>
  <link name="leg3_link2_p2">
    <visual>
      <geometry>
        <mesh filename="package:///meshes/legs/link2p2.stl" scale="0.001 0.001 0.001"/>
      </geometry>
      <material name="leg3_link2_p2_yellow">
        <color rgba="0.980 0.714 0.004 1.0"/>
      </material>
    </visual>
    <collision>
      <geometry>
        <mesh filename="package:///meshes/legs/link2p2.stl" scale="0.001 0.001 0.001"/>
      </geometry>
    </collision>
  </link>
  <link name="leg3_link2_p3">
    <visual>
      <geometry>
        <mesh filename="package:///meshes/legs/link2p3.stl" scale="0.001 0.001 0.001"/>
      </geometry>
      <material name="leg3_link2_p3_yellow">
        <color rgba="0.980 0.714 0.004 1.0"/>
      </material>
    </visual>
    <collision>
      <geometry>
        <mesh filename="package:///meshes/legs/link2p3.stl" scale="0.001 0.001 0.001"/>
      </geometry>
    </collision>
  </link>
  <joint name="leg3_link2_p1_to_p2" type="fixed">
    <origin rpy="0.0 0.0 0.0" xyz="0.0 0.0 0.0"/>
    <parent link="leg3_link2_p1"/>
    <child link="leg3_link2_p2"/>
  </joint>
  <joint name="leg3_link2_p2_to_p3" type="fixed">
    <origin rpy="0.0 1.5707963267948966 0.0" xyz="-0.220 0.0 0.006"/>
    <parent link="leg3_link2_p2"/>
    <child link="leg3_link2_p3"/>
  </joint>
  <link name="leg3_pusher_servo_mount">
    <visual>
      <geometry>
        <mesh filename="package:///meshes/legs/pusher_servo_mount.stl" scale="0.001 0.001 0.001"/>
      </geometry>
      <material name="leg3_pusher_servo_mount_yellow">
        <color rgba="0.980 0.714 0.004 1.0"/>
      </material>
    </visual>
    <collision>
      <geometry>
        <mesh filename="package:///meshes/legs/pusher_servo_mount.stl" scale="0.001 0.001 0.001"/>
      </geometry>
    </collision>
  </link>
  <joint name="leg3_pusher_servo_mount_to_link2" type="fixed">
    <origin rpy="0.0 0.0 1.5707963267948966" xyz="-0.147 0.0 0.012"/>
    <parent link="leg3_link2_p2"/>
    <child link="leg3_pusher_servo_mount"/>
  </joint>
  <link name="leg3_pusher_servo">
    <visual>
      <geometry>
        <mesh filename="package:///meshes/non_printed/pusher_servo.stl" scale="0.001 0.001 0.001"/>
      </geometry>
      <material name="leg3_pusher_servo_blue">
        <color rgba="0.043 0.216 0.404 1.0"/>
      </material>
    </visual>
    <collision>
      <geometry>
        <mesh filename="package:///meshes/non_printed/pusher_servo.stl" scale="0.001 0.001 0.001"/>
      </geometry>
    </collision>
  </link>
  <joint name="leg3_pusher_servo_to_mount" type="fixed">
    <origin rpy="0.0 0.0 -1.5707963267948966" xyz="0.01 -0.0 0.0096"/>
    <parent link="leg3_pusher_servo_mount"/>
    <child link="leg3_pusher_servo"/>
  </joint>
  <!-- link1 -->
  <link name="servo_leg3_link1">
    <visual>
      <geometry>
        <mesh filename="package:///meshes/non_printed/60_kg_servo.stl" scale="0.001 0.001 0.001"/>
      </geometry>
      <material name="servo_leg3_link1_blue">
        <color rgba="0.043 0.216 0.404 1.0"/>
      </material>
    </visual>
    <collision>
      <geometry>
        <mesh filename="package:///meshes/non_printed/60_kg_servo.stl" scale="0.001 0.001 0.001"/>
      </geometry>
    </collision>
  </link>
  <link name="servo_mount_leg3_link1">
    <visual>
      <geometry>
        <mesh filename="package:///meshes/legs/servo_mount_slotted_60kg.stl" scale="0.001 0.001 0.001"/>
      </geometry>
      <material name="servo_mount_leg3_link1_blue">
        <color rgba="0.231 0.380 0.706 1.0"/>
      </material>
    </visual>
    <collision>
      <geometry>
        <mesh filename="package:///meshes/legs/servo_mount_slotted_60kg.stl" scale="0.001 0.001 0.001"/>
      </geometry>
    </collision>
  </link>
  <joint name="leg3_link1_servo_to_mount" type="fixed">
    <origin rpy="0.0 0.0 1.5707963267948966" xyz="0.0 0.0 0.0278"/>
    <parent link="servo_mount_leg3_link1"/>
    <child link="servo_leg3_link1"/>
  </joint>
  <link name="leg3_link1">
    <visual>
      <geometry>
        <mesh filename="package:///meshes/legs/link1.stl" scale="0.001 0.001 0.001"/>
      </geometry>
      <material name="leg3_link1_blue">
        <color rgba="0.231 0.380 0.706 1.0"/>
      </material>
    </visual>
    <collision>
      <geometry>
        <mesh filename="package:///meshes/legs/link1.stl" scale="0.001 0.001 0.001"/>
      </geometry>
    </collision>
  </link>
  <joint name="leg3_link1_to_servo" type="fixed">
    <origin rpy="0.0 1.5707963267948966 1.5707963267948966" xyz="-0.123 -0.031 0.0065"/>
    <parent link="leg3_link1"/>
    <child link="servo_mount_leg3_link1"/>
  </joint>
  <!-- horn -->
  <link name="leg3_horn_sleeve">
    <visual>
      <geometry>
        <mesh filename="package:///meshes/legs/horn_sleeve.stl" scale="0.001 0.001 0.001"/>
      </geometry>
      <material name="leg3_horn_sleeve_yellow">
        <color rgba="0.980 0.714 0.004 1.0"/>
      </material>
    </visual>
    <collision>
      <geometry>
        <mesh filename="package:///meshes/legs/horn_sleeve.stl" scale="0.001 0.001 0.001"/>
      </geometry>
    </collision>
  </link>
  <link name="leg3_actuator_arm">
    <visual>
      <geometry>
        <mesh filename="package:///meshes/legs/actuator_arm.stl" scale="0.001 0.001 0.001"/>
      </geometry>
      <material name="leg3_actuator_arm_yellow">
        <color rgba="0.980 0.714 0.004 1.0"/>
      </material>
    </visual>
    <collision>
      <geometry>
        <mesh filename="package:///meshes/legs/actuator_arm.stl" scale="0.001 0.001 0.001"/>
      </geometry>
    </collision>
  </link>
  <link name="leg3_pusher_servo_horn">
    <visual>
      <geometry>
        <mesh filename="package:///meshes/non_printed/pusher_servo_horn.stl" scale="0.001 0.001 0.001"/>
      </geometry>
      <material name="leg3_pusher_servo_horn_black">
        <color rgba="0.0 0.0 0.0 1.0"/>
      </material>
    </visual>
    <collision>
      <geometry>
        <mesh filename="package:///meshes/non_printed/pusher_servo_horn.stl" scale="0.001 0.001 0.001"/>
      </geometry>
    </collision>
  </link>
  <link name="leg3_sliding_cylinder">
    <visual>
      <geometry>
        <mesh filename="package:///meshes/legs/sliding_cylinder.stl" scale="0.001 0.001 0.001"/>
      </geometry>
      <material name="leg3_sliding_cylinder_blue">
        <color rgba="0.231 0.380 0.706 1.0"/>
      </material>
    </visual>
    <collision>
      <geometry>
        <mesh filename="package:///meshes/legs/sliding_cylinder.stl" scale="0.001 0.001 0.001"/>
      </geometry>
    </collision>
  </link>
  <link name="leg3_wheels">
    <visual>
      <geometry>
        <mesh filename="package:///meshes/non_printed/metal_bearing.stl" scale="0.001 0.001 0.001"/>
      </geometry>
      <material name="leg3_wheels_silver">
        <color rgba="0.9176 0.9176 0.9176 1.0"/>
      </material>
    </visual>
    <collision>
      <geometry>
        <mesh filename="package:///meshes/non_printed/metal_bearing.stl" scale="0.001 0.001 0.001"/>
      </geometry>
    </collision>
  </link>
  <joint name="leg3_servo_to_horn" type="revolute">
    <origin rpy="0.0 0.0 1.5707963267948966" xyz="0.0075 -0.01 0.02"/>
    <parent link="leg3_pusher_servo"/>
    <child link="leg3_pusher_servo_horn"/>
    <axis xyz="0.0 0.0 1.0"/>
    <limit effort="50.0" lower="-1.5707963267948966" upper="1.5707963267948966" velocity="1.0"/>
  </joint>
  <joint name="leg3_servo_horn_to_sleeve" type="fixed">
    <origin rpy="3.141592653589793 0.0 1.5707963267948966" xyz="-0.0 0.0 0.005"/>
    <parent link="leg3_pusher_servo_horn"/>
    <child link="leg3_horn_sleeve"/>
  </joint>
  <joint name="leg3_sleeve_to_arm" type="continuous">
    <origin rpy="-1.5707963267948966 0.0 1.5707963267948966" xyz="0.0212344 -0.0 0.0039878"/>
    <parent link="leg3_horn_sleeve"/>
    <child link="leg3_actuator_arm"/>
    <axis xyz="0.0 1.0 0.0"/>
  </joint>
  <joint name="leg3_cylinder_to_arm" type="continuous">
    <origin rpy="1.5707963267948966 0.0 0.0" xyz="-0.0 -0.0027 -0.046"/>
    <parent link="leg3_actuator_arm"/>
    <child link="leg3_sliding_cylinder"/>
    <axis xyz="0.0 0.0 1.0"/>
  </joint>
  <joint name="leg3_cylinder_to_wheels" type="fixed">
    <origin rpy="0 0.0 3.141592653589793" xyz="-0.0 -0.0405 -0.0"/>
    <parent link="leg3_sliding_cylinder"/>
    <child link="leg3_wheels"/>
  </joint>
  <!-- joining link1 and link2 -->
  <link name="leg3_servo_horn">
    <visual>
      <geometry>
        <mesh filename="package:///meshes/non_printed/18T_servo_horn.stl" scale="0.001 0.001 0.001"/>
      </geometry>
      <material name="leg3_servo_horn_purple">
        <color rgba="0.490 0.086 0.557 1.0"/>
      </material>
    </visual>
    <collision>
      <geometry>
        <mesh filename="package:///meshes/non_printed/18T_servo_horn.stl" scale="0.001 0.001 0.001"/>
      </geometry>
    </collision>
  </link>
  <joint name="leg3_link1_to_joint" type="revolute">
    <origin rpy="0 0 1.2915436467948966" xyz="0.019 -0.0 0.0245"/>
    <parent link="servo_leg3_link1"/>
    <child link="leg3_servo_horn"/>
    <axis xyz="0 0 1"/>
    <limit effort="1" lower="-2.356" upper="2.356" velocity="1"/>
  </joint>
  <joint name="leg3_joint_to_link2" type="fixed">
    <origin rpy="1.5707963267948966 3.141592653589793 -1.5707963267948966" xyz="0.005 0.005 -0.028"/>
    <parent link="leg3_servo_horn"/>
    <child link="leg3_link2_p1"/>
  </joint>
  <!-- joining to the base -->
  <joint name="leg3_link1_to_frame" type="fixed">
    <origin rpy="1.5707963267948966 3.141592653589793 -1.5707963267948966" xyz="0.005 0.005 -0.028"/>
    <parent link="third_servo_horn"/>
    <child link="leg3_link1"/>
  </joint>
</robot>
